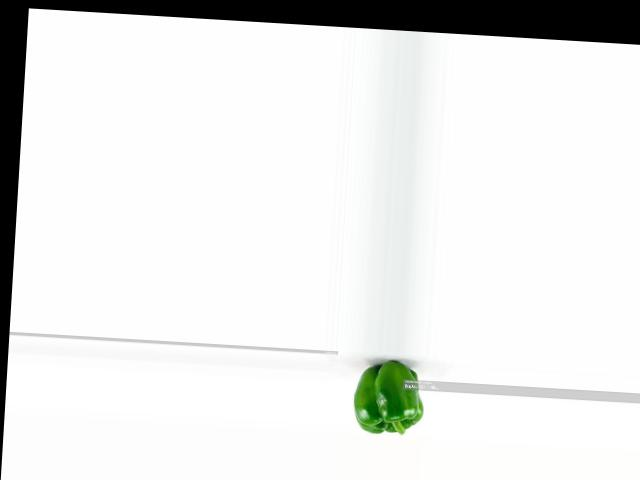bell_pepper: (348, 355, 425, 439)
